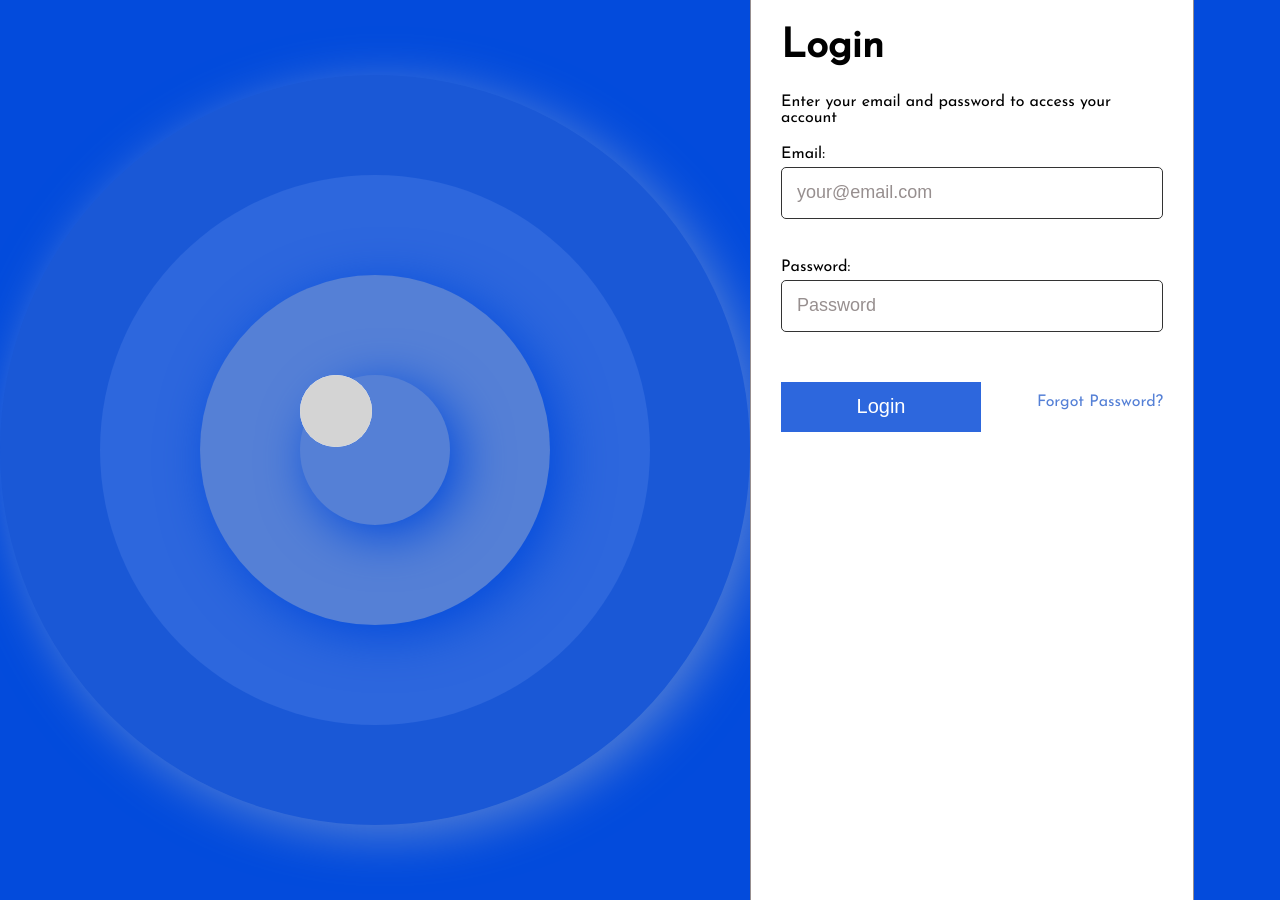
Test: SignIn › shows a loader while the login request is in flight
In the field with placeholder "your@email.com": coordinates (972, 193) [781,167,1163,219], type "a@b.cm"
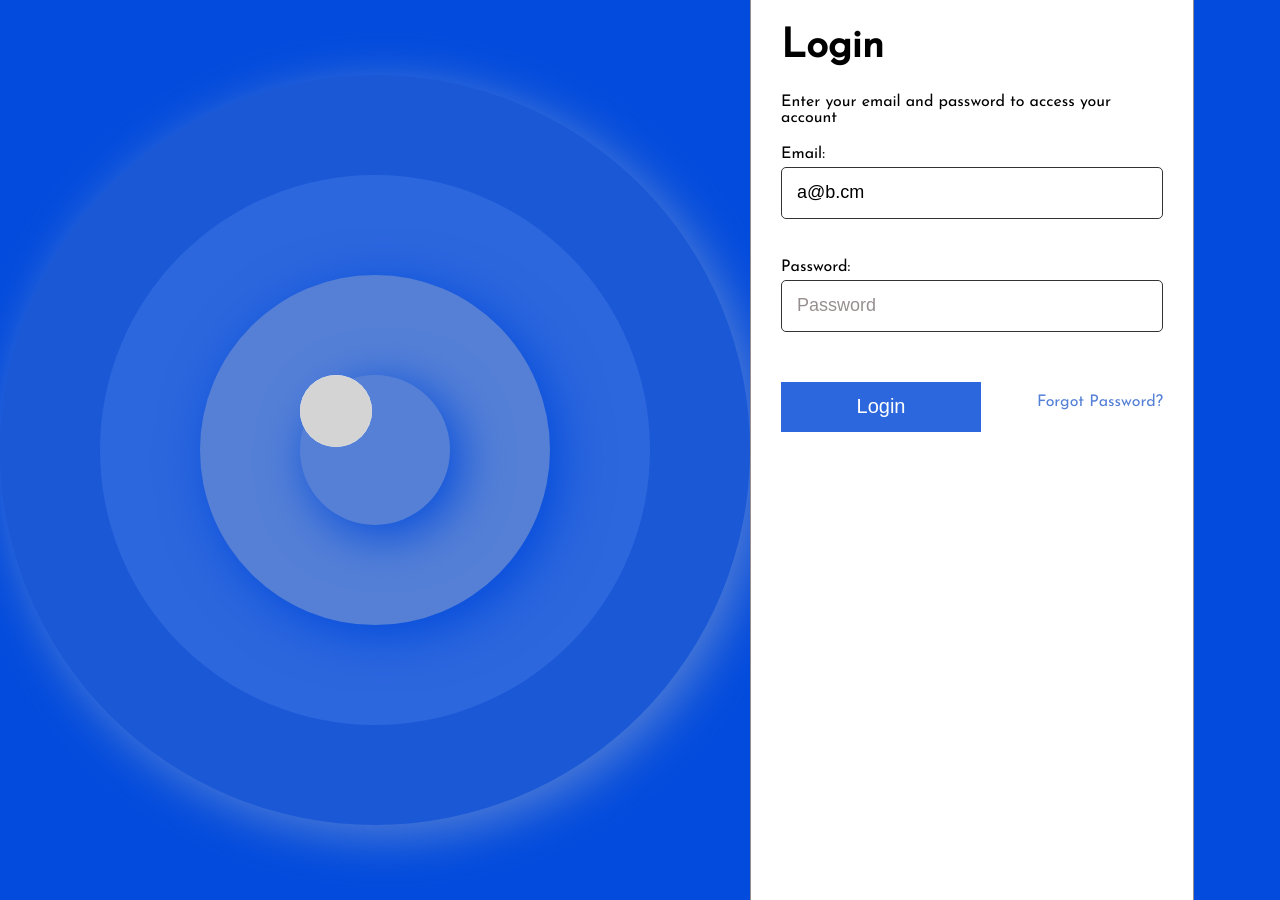
In the password field with placeholder "Password": coordinates (972, 306) [781,280,1163,332], type "x"
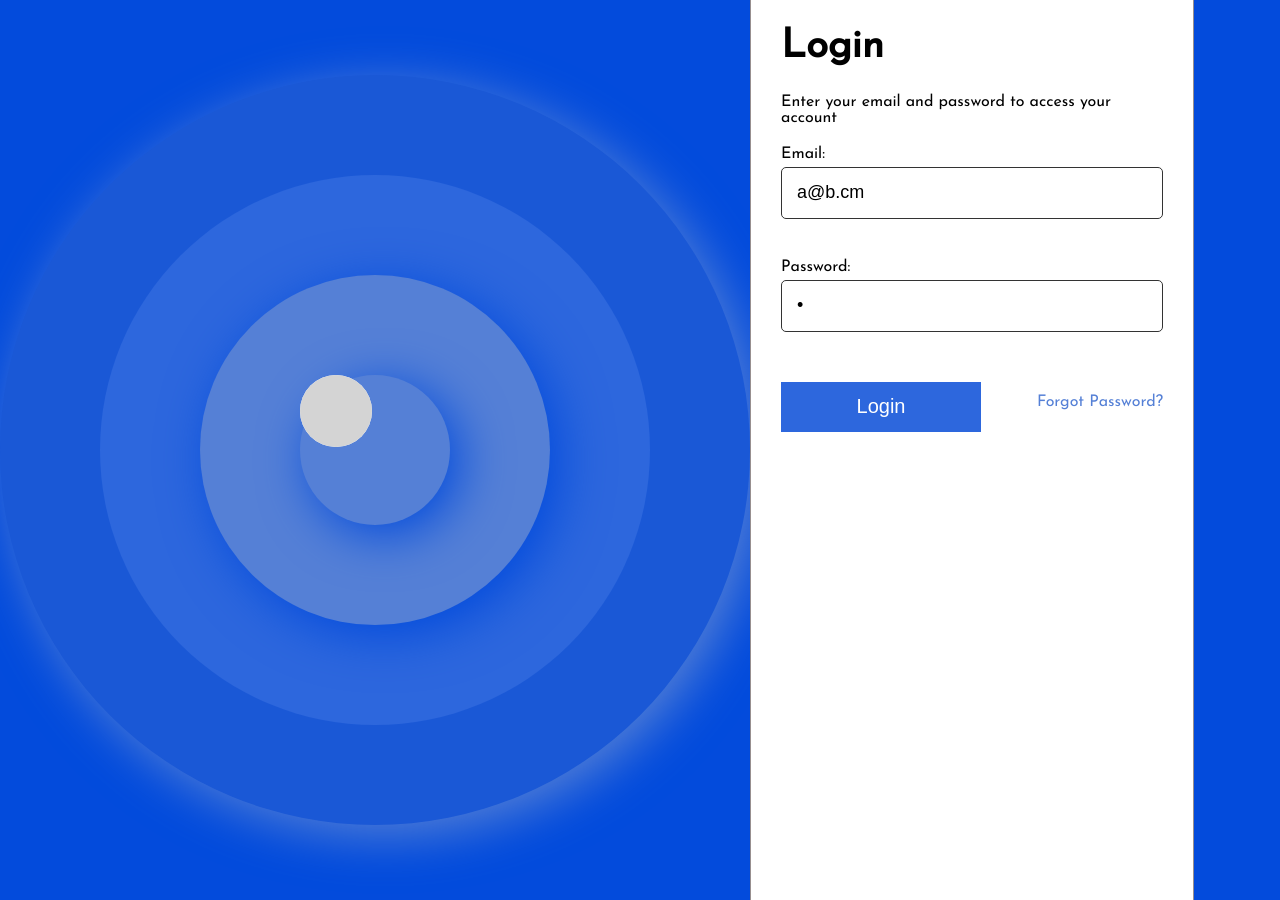
Click the button "Login": coordinates (881, 407) [781,382,981,432]
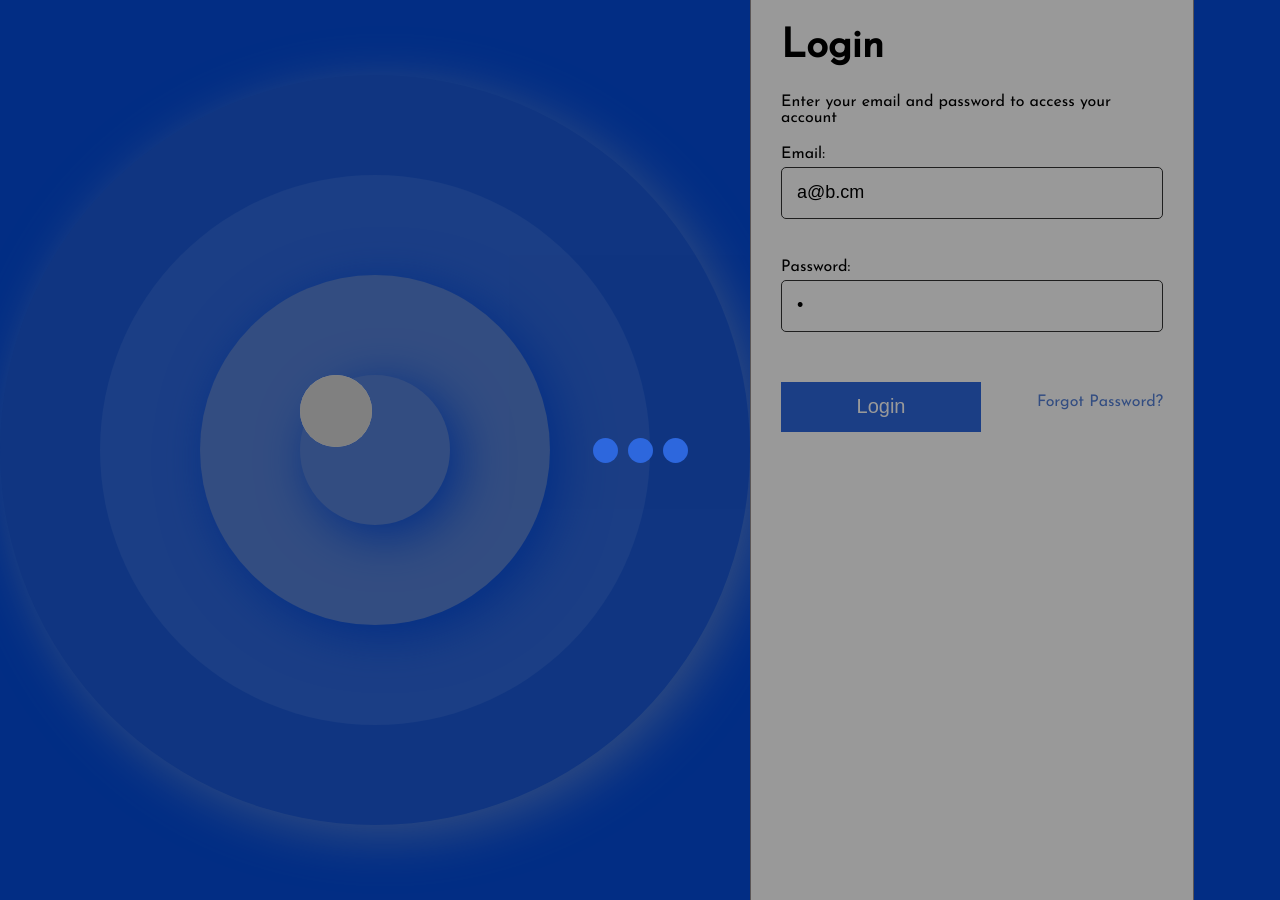
Check: the element with class "loading-page" is shown
